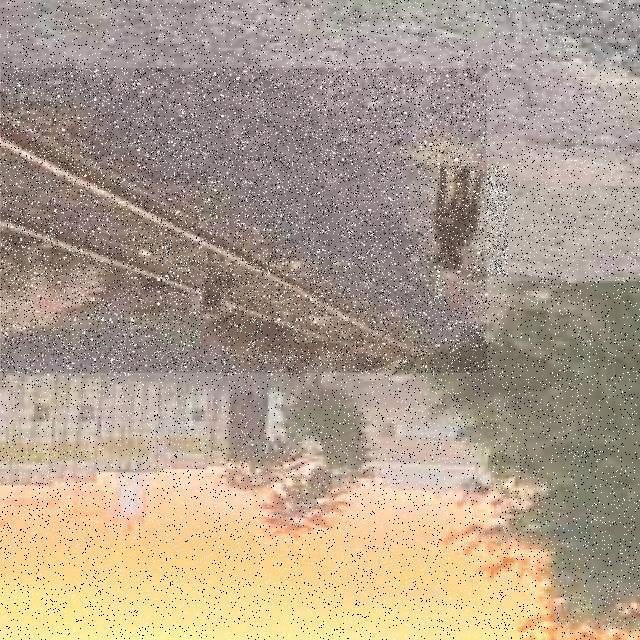rail: (3, 69, 488, 374)
